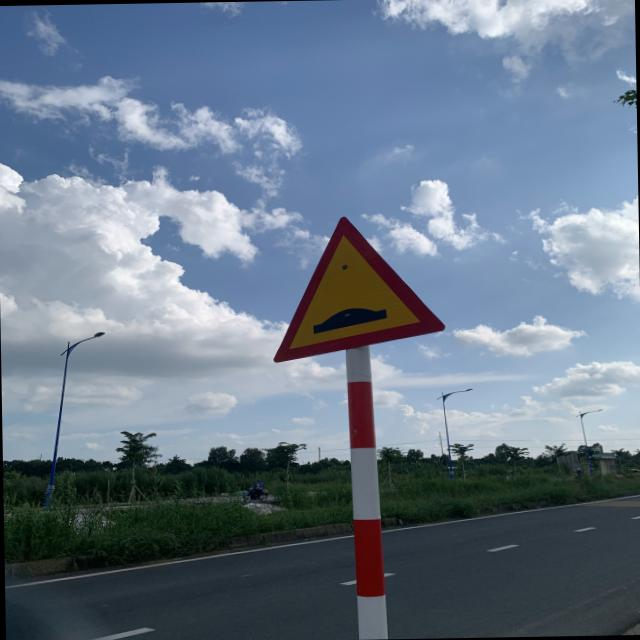Duong_Cong_Ben_Phai: (270, 212, 444, 365)
